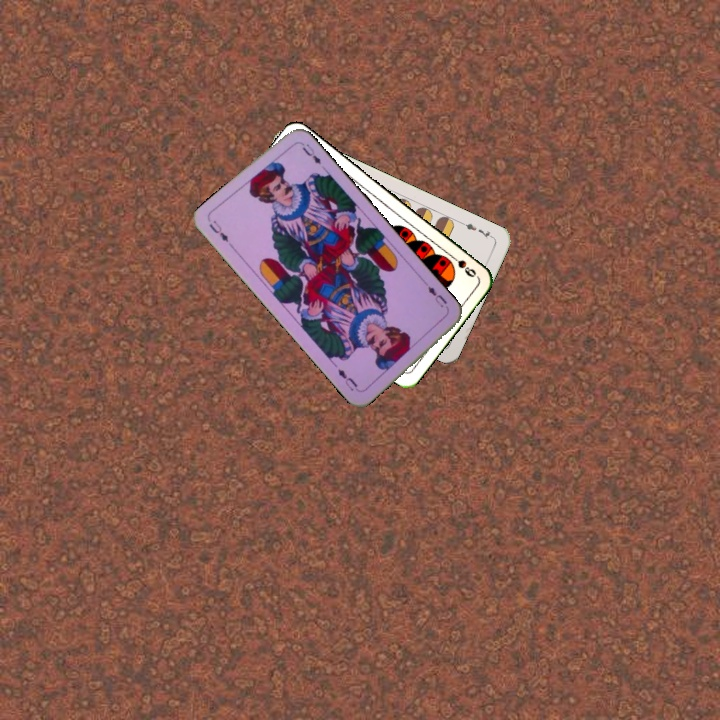E7: (458, 218, 496, 241)
EU: (205, 216, 231, 245), (424, 282, 450, 310)
S9: (445, 250, 479, 280)
